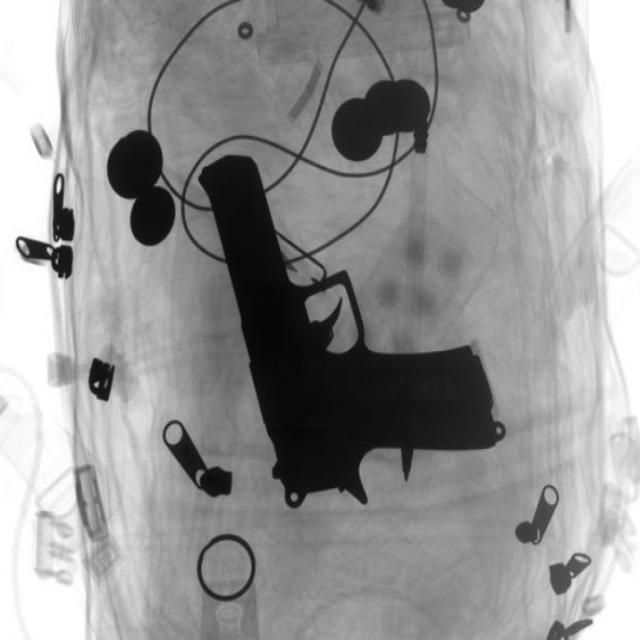GUN: (204, 153, 490, 503)
